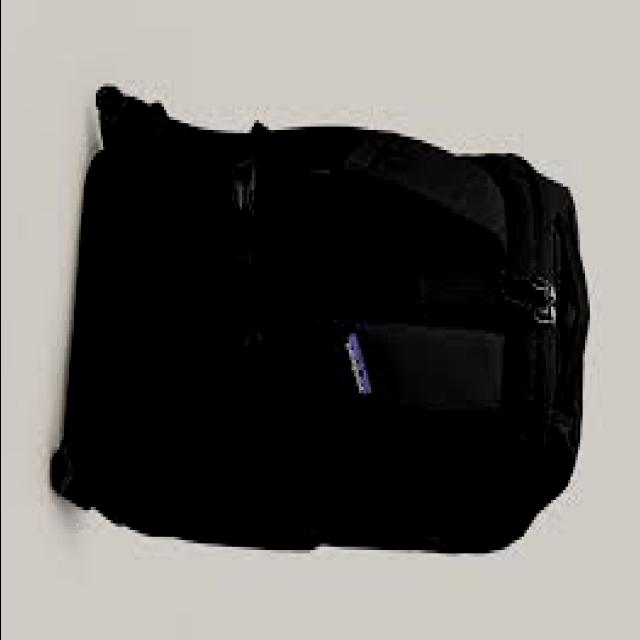backpack: (52, 85, 592, 555)
